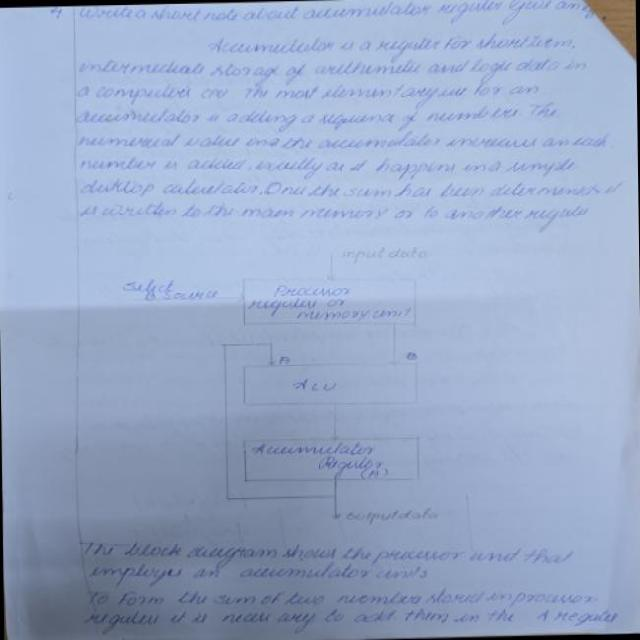Figure Detection - v3 Dataset Version2: (109, 232, 514, 546)
